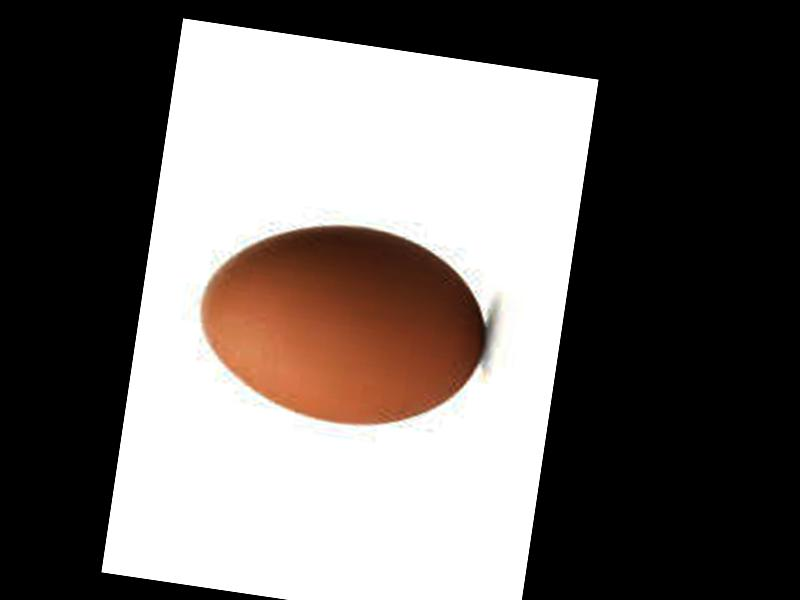Eggs: (191, 207, 499, 440)
